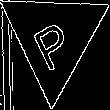P_NW: (29, 7, 79, 70)
